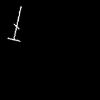double_crochet: (8, 8, 20, 40)
